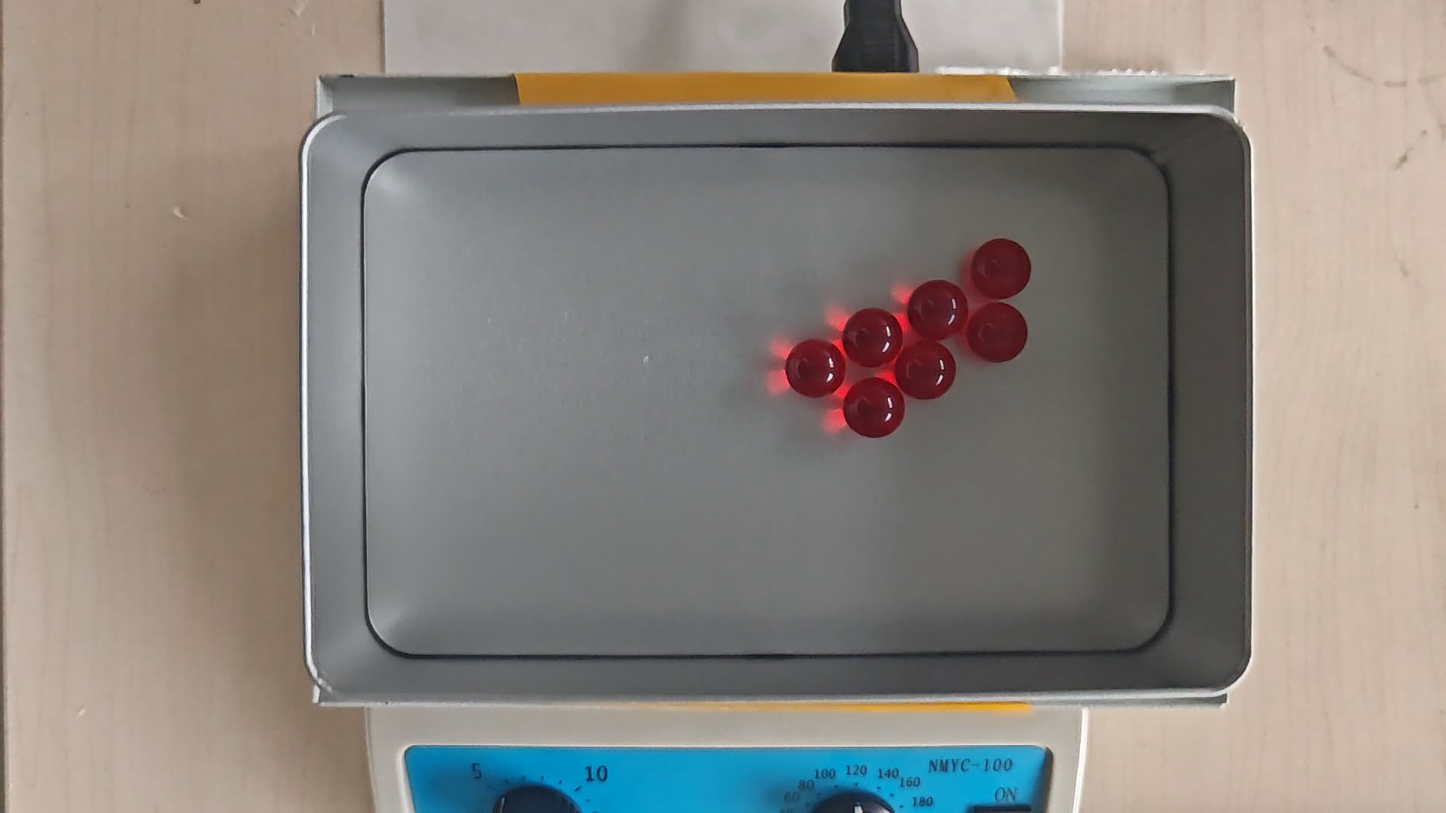ball: (972, 237, 1033, 297), (972, 304, 1030, 363), (909, 279, 968, 336), (787, 337, 841, 397), (847, 379, 901, 438), (900, 342, 955, 398), (847, 310, 901, 367)
container: (367, 141, 1166, 651)
